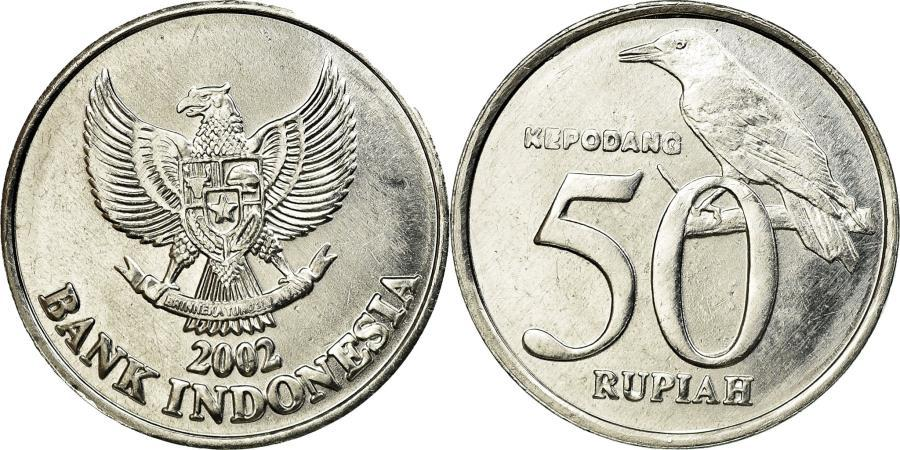coin_50_1999: (445, 0, 900, 450), (0, 0, 446, 450)
